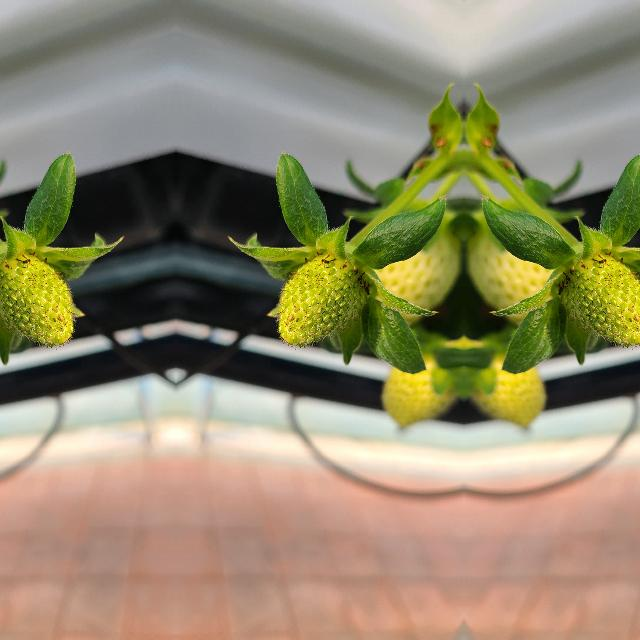Health_25: (277, 253, 365, 344), (561, 253, 640, 344), (0, 253, 73, 344)
